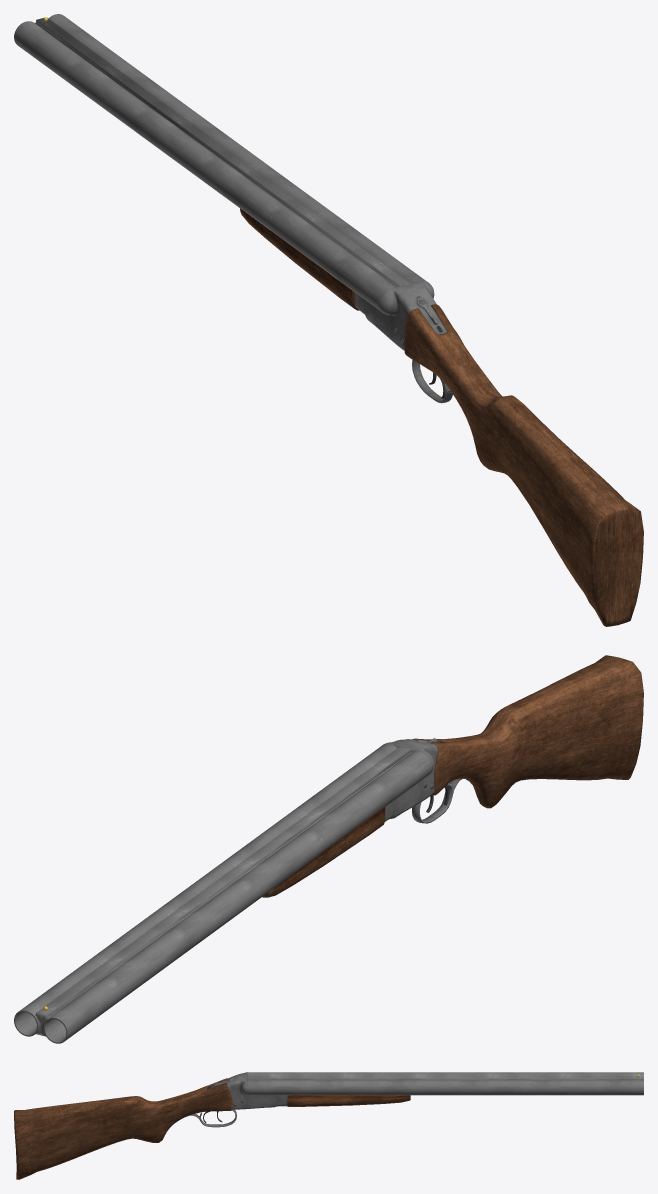
Rendered from shotgun_double.glb.
3 views of the same model, one above another, from view 1: azimuth 30°, elevation 25°; view 2: azimuth 150°, elevation 25°; view 3: azimuth 270°, elevation 25° (orthographic). The views are drawn at different scales.
Parts seen in each view (by area): view 1: body, barrel; view 2: barrel, body; view 3: barrel, body.
Part boxes in pixels (left/top/right/bottom): body: left=374, top=280, right=643, bottom=626; barrel: left=14, top=14, right=426, bottom=341; barrel: left=14, top=744, right=431, bottom=1043; body: left=382, top=655, right=643, bottom=823; barrel: left=245, top=1072, right=643, bottom=1109; body: left=14, top=1072, right=265, bottom=1179.
Bounding box in the file's own units: 0.0566 × 0.1888 × 1.05.
Materials: 12 (12 with a texture image).
